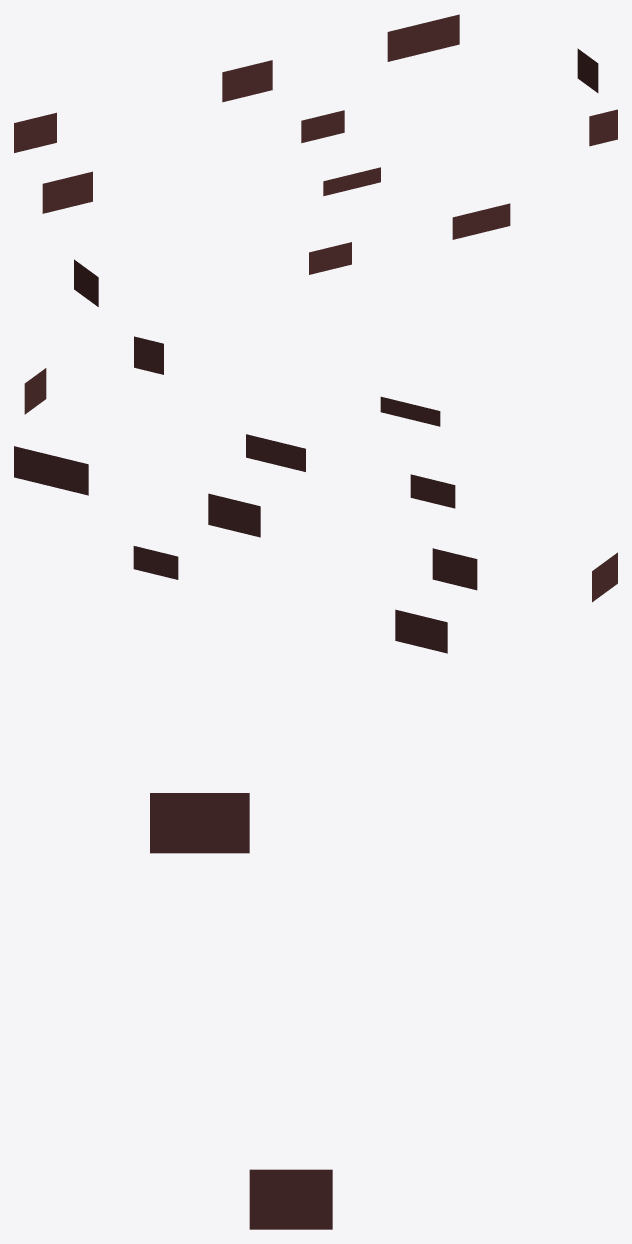
File: House Windows.fbx
The picture shows the model from 3 angles, top to bottom: view 1: azimuth 30°, elevation 25°; view 2: azimuth 150°, elevation 25°; view 3: azimuth 270°, elevation 25°; orthographic projection. The views are drawn at different scales.
Visible parts, largest first — view 1: House Windows; view 2: House Windows; view 3: House Windows.
Part boxes in pixels (left/top/right/bottom): House Windows: left=14, top=14, right=617, bottom=306; House Windows: left=14, top=336, right=617, bottom=653; House Windows: left=150, top=793, right=332, bottom=1229.
Size of the model in its own units: 1825 by 825 by 325.
